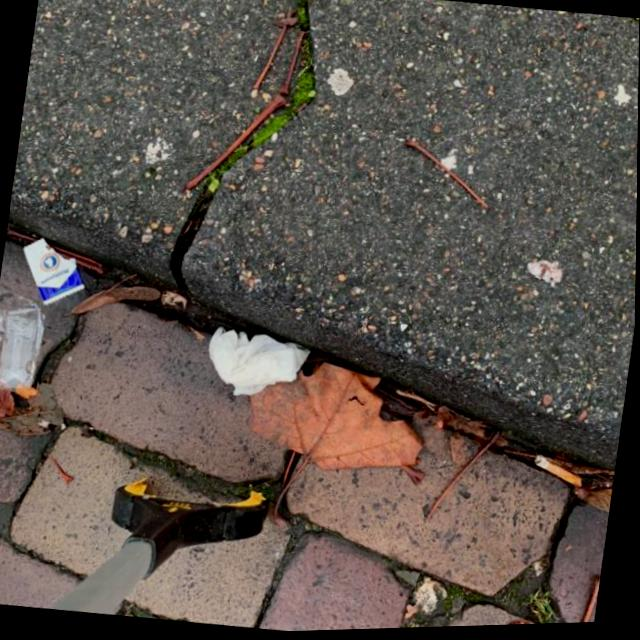Paper: (201, 324, 315, 406), (14, 233, 91, 311)
